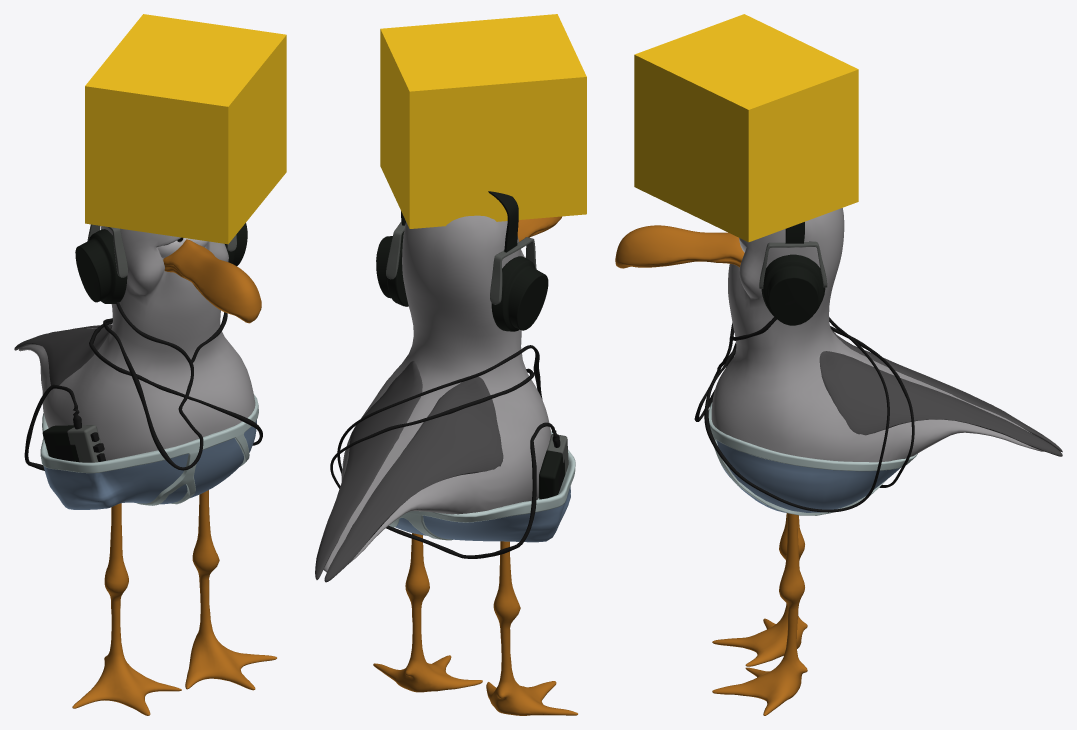
The model's file is seagull_headphone.glb.fbx.
The picture shows the model from 3 angles, left to right: view 1: azimuth 30°, elevation 25°; view 2: azimuth 150°, elevation 25°; view 3: azimuth 270°, elevation 25°; orthographic projection. The views are drawn at different scales.
Visible parts, largest first — view 1: root (×2); view 2: root (×2); view 3: root (×2).
Boxes of the visible parts, left/top/right/bottom form: root (×2): left=14, top=14, right=286, bottom=715; root (×2): left=315, top=14, right=586, bottom=715; root (×2): left=615, top=14, right=1062, bottom=715.
Bounding box in the file's own units: 0.216 × 0.6104 × 0.4073.
2 materials, 2 textured.
